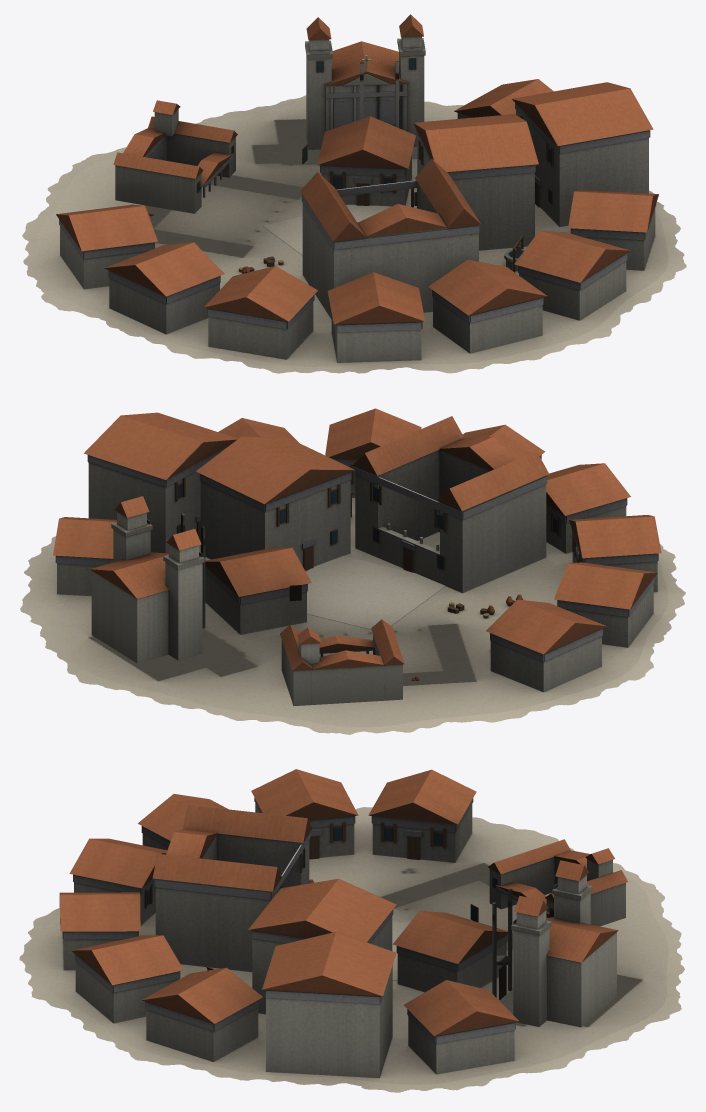
File: gunpowder-town-medium-b-americas-0f373746.glb
3 views of the same model, one above another, from view 1: azimuth 30°, elevation 25°; view 2: azimuth 150°, elevation 25°; view 3: azimuth 270°, elevation 25° (orthographic).
Parts seen in each view (by area): view 1: LOD0; view 2: LOD0; view 3: LOD0.
Part boxes in pixels (x1=…): LOD0: x1=22, y1=14, x2=686, y2=373; LOD0: x1=20, y1=408, x2=685, y2=734; LOD0: x1=19, y1=769, x2=684, y2=1092.
Size of what is drawn, in the model's own units: 6.04 by 1.2 by 5.91.
Materials: 3 (3 with a texture image).
